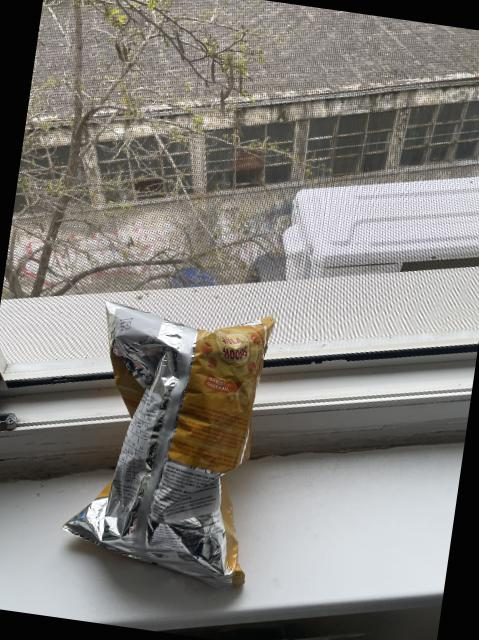Chio Hula Hoops Cheese 70g: (55, 299, 284, 591)
